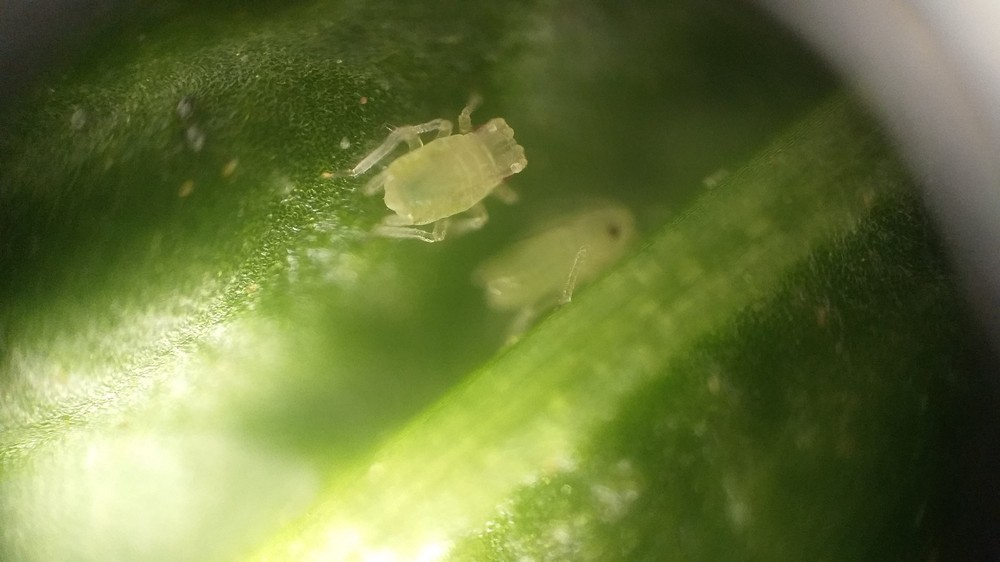Pulgon: (330, 87, 537, 247), (465, 195, 660, 333)
